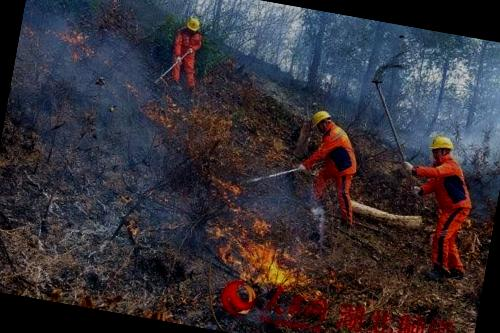helmet: (304, 107, 336, 134), (426, 132, 458, 156), (182, 12, 205, 32)
person: (396, 128, 494, 288), (286, 105, 372, 236), (164, 11, 210, 96)
